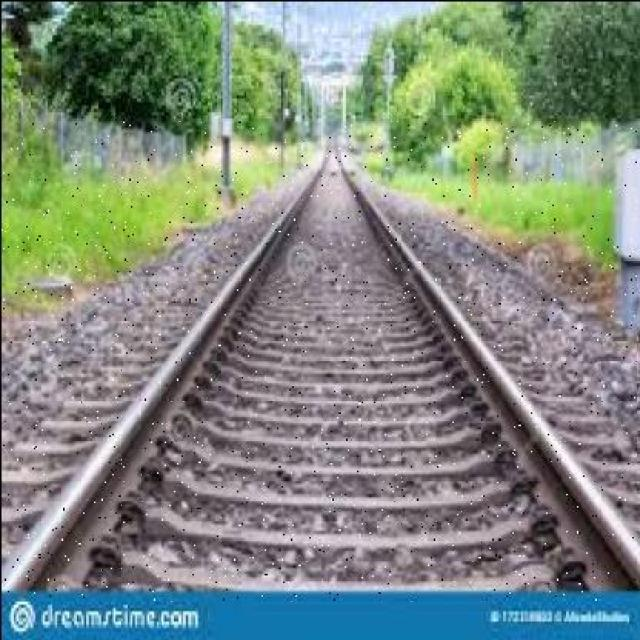rail: (0, 119, 635, 600)
